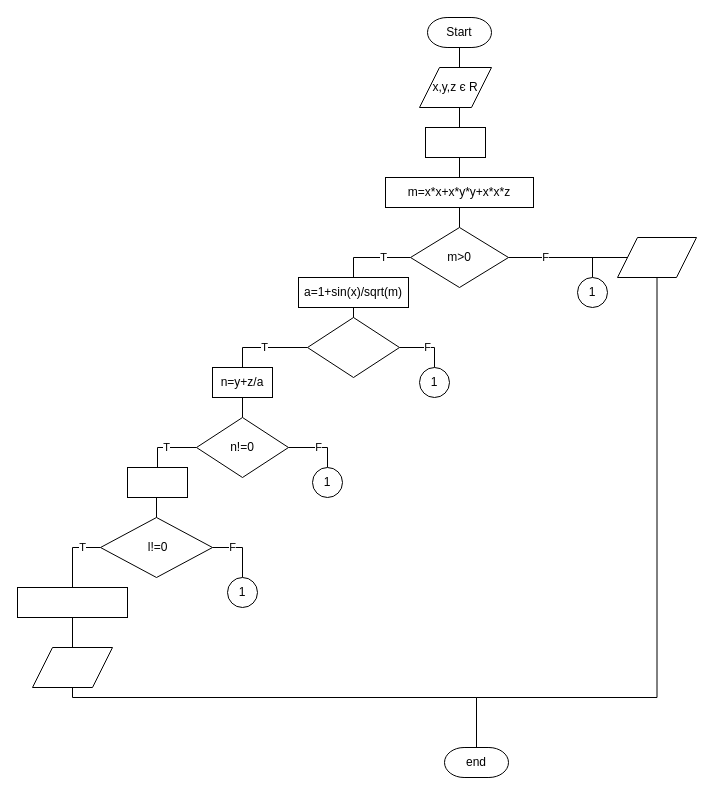
Image size: 714x795. Some labels were removed from this diagram. Each missing label, with the centre of its shape:
"a!=0" goes at (x=353, y=347).
"a,b" goes at (x=72, y=667).
"a,b є R" goes at (x=455, y=142).
"b=ln(a*a*a +x*x)/l" goes at (x=72, y=602).
"Error" goes at (x=656, y=257).
"l=x+a/n" goes at (x=157, y=482).
